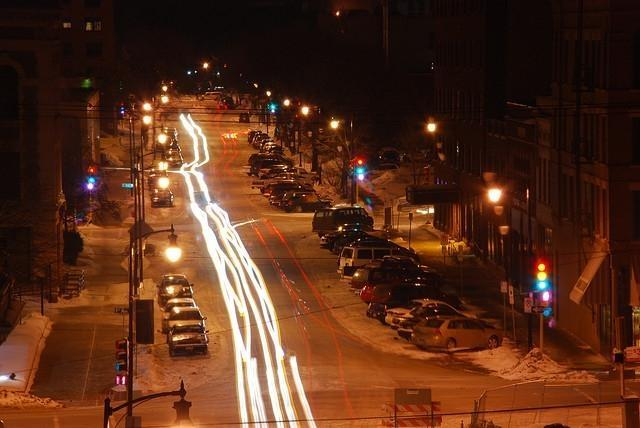car: (411, 314, 504, 355), (351, 256, 444, 288), (382, 298, 478, 328), (333, 246, 412, 282), (311, 206, 374, 238), (332, 234, 400, 258), (359, 278, 405, 306), (156, 273, 194, 306), (170, 324, 212, 351), (167, 305, 208, 331), (283, 193, 336, 212), (160, 296, 198, 314), (396, 318, 418, 342)
